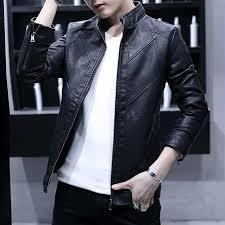jacket: (18, 9, 213, 193)
